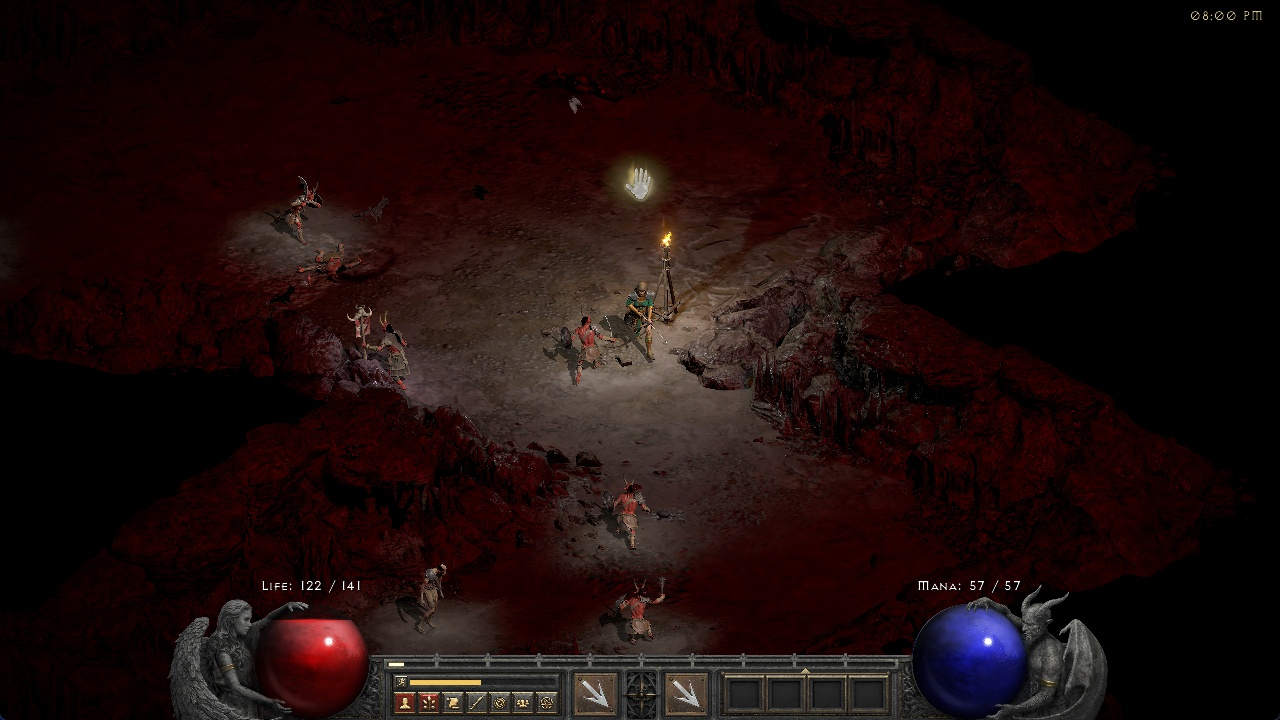fallen: (549, 311, 620, 389), (609, 575, 671, 644), (602, 476, 656, 552), (273, 174, 323, 245)
